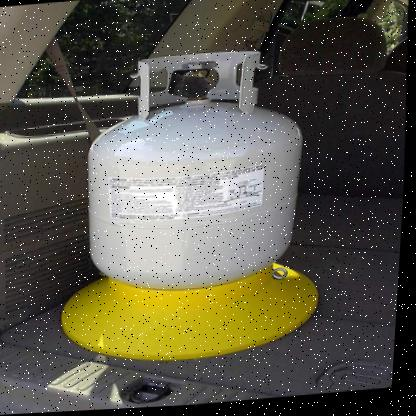gas-tank: (65, 33, 332, 306)
